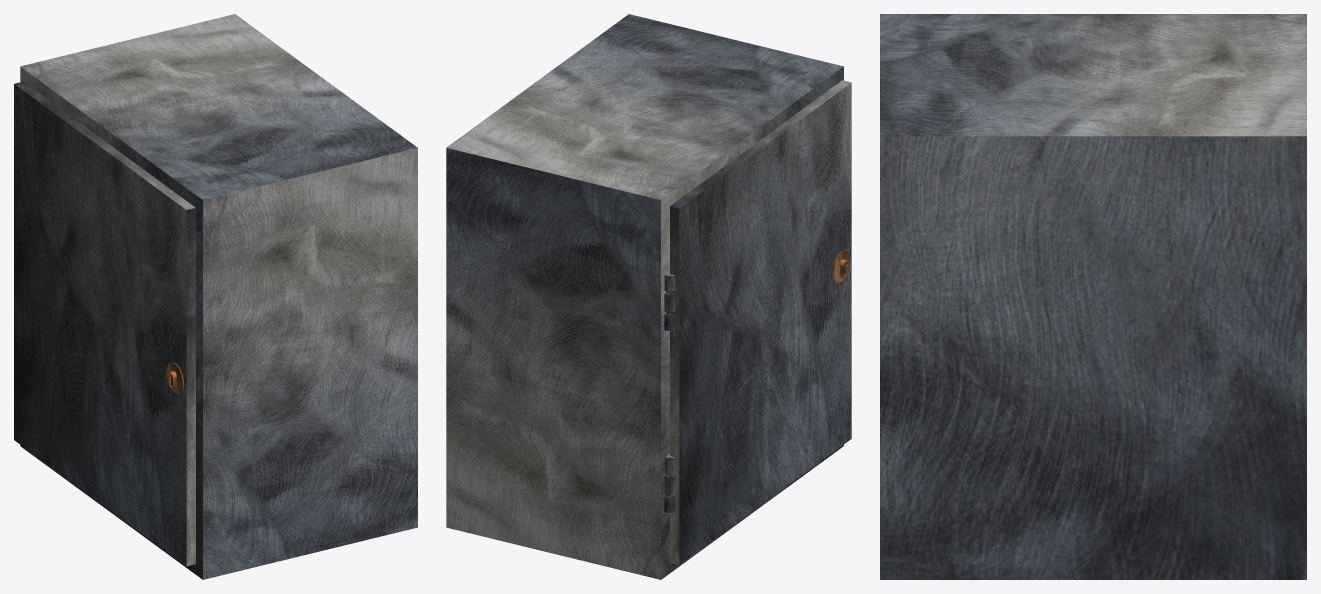
File: LivingQuarters_CaptainsSafe_Unwrapped.fbx
The picture shows the model from 3 angles, left to right: view 1: azimuth 30°, elevation 25°; view 2: azimuth 150°, elevation 25°; view 3: azimuth 270°, elevation 25°; orthographic projection. The views are drawn at different scales.
Visible parts, largest first — view 1: Box001, Door; view 2: Box001, Door, Hinge001, Hinge; view 3: Box001.
Part boxes in pixels (x1,y1,x2,y2): Box001: [20, 14, 417, 579]; Door: [14, 81, 195, 566]; Box001: [446, 14, 843, 579]; Door: [670, 80, 851, 564]; Hinge001: [664, 271, 675, 330]; Hinge: [664, 453, 675, 512]; Box001: [880, 14, 1306, 579].
Bounding box in the file's own units: 31.43 × 49.1 × 42.83.
